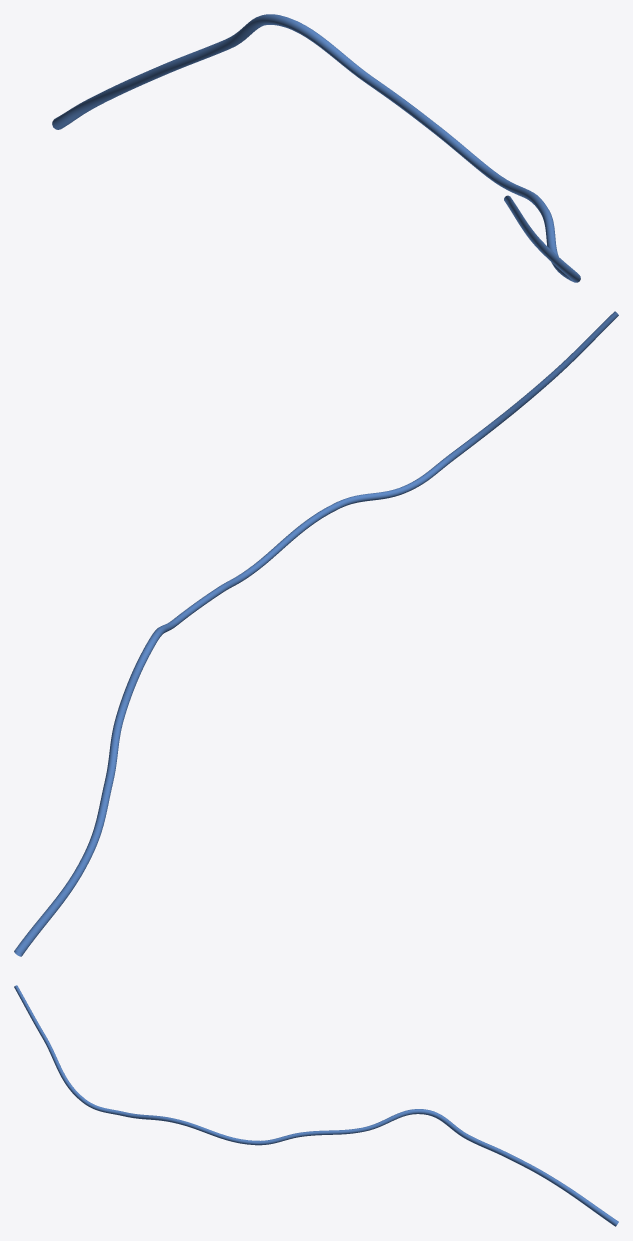
3 views of the same model, one above another, from view 1: azimuth 30°, elevation 25°; view 2: azimuth 150°, elevation 25°; view 3: azimuth 270°, elevation 25° (orthographic). The views are drawn at different scales.
Parts seen in each view (by area): view 1: 右侧椎静脉; view 2: 右侧椎静脉; view 3: 右侧椎静脉.
Boxes of the visible parts, <box> form: 右侧椎静脉: <box>52,14,580,282</box>; 右侧椎静脉: <box>14,311,618,956</box>; 右侧椎静脉: <box>14,985,618,1226</box>.
Bounding box in the file's own units: 0.0511 × 0.087 × 0.2331.
